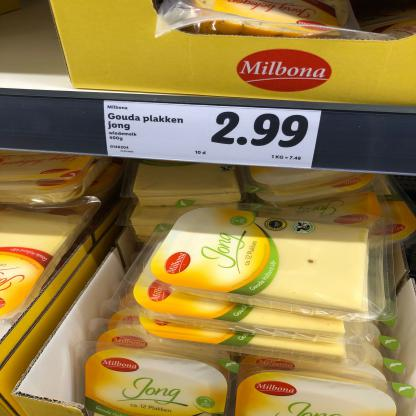prtg: (104, 101, 323, 170)
